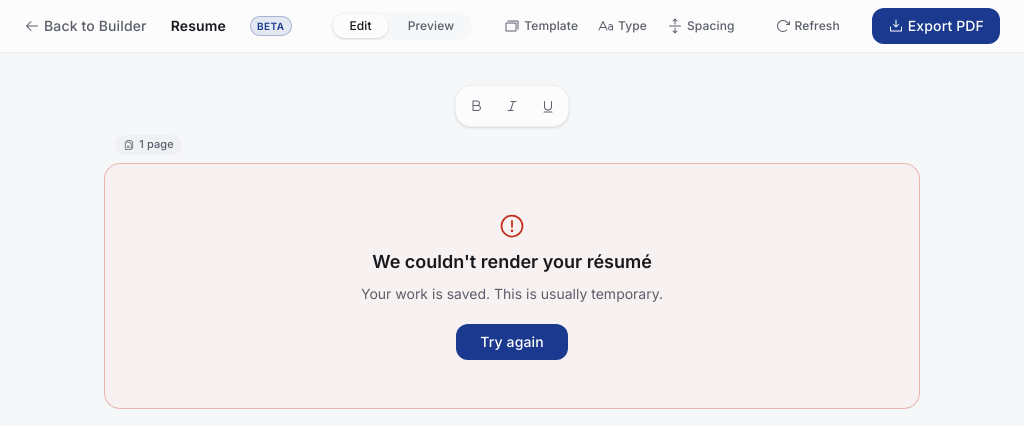
Test case: Studio preview page › recovers when the retry succeeds
The width and height of the screenshot is (1024, 426).
What coordinates should you click on to do the following:
click the button "Try again"
I would click on:
 (512, 342)
Its box is [456,324,568,360].
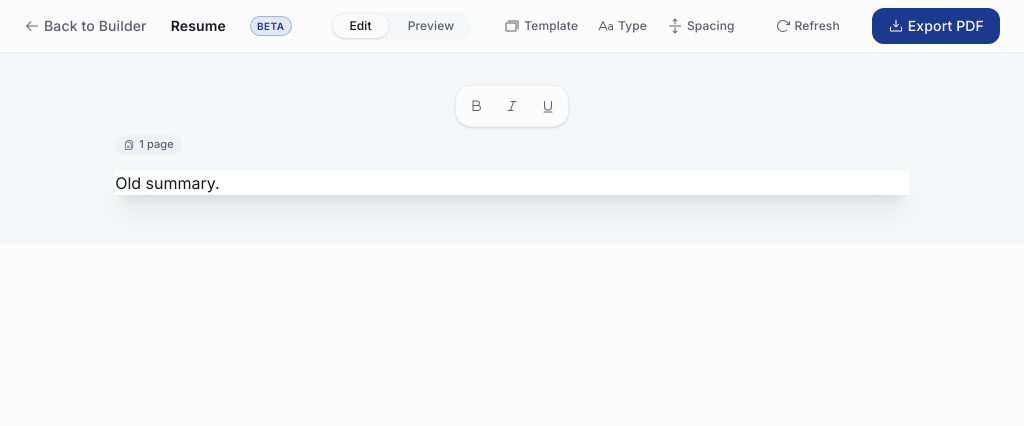
Expected: the heading "couldn.t render" is gone
